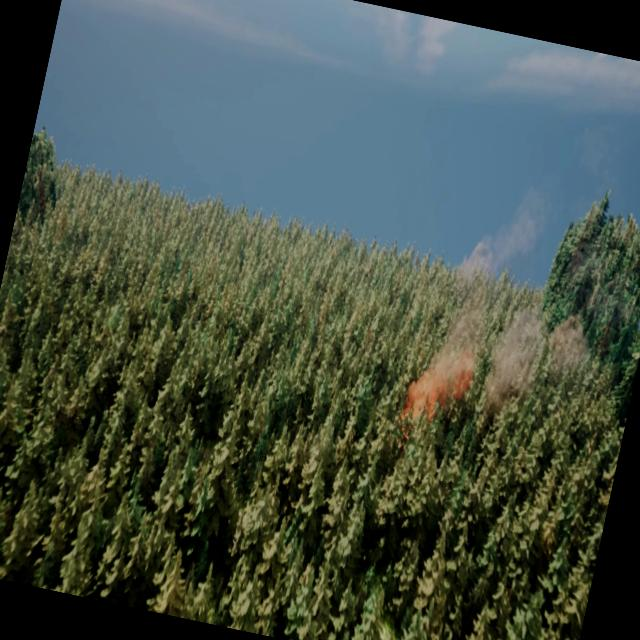fire: (394, 360, 466, 446)
smoke: (402, 165, 620, 462)
